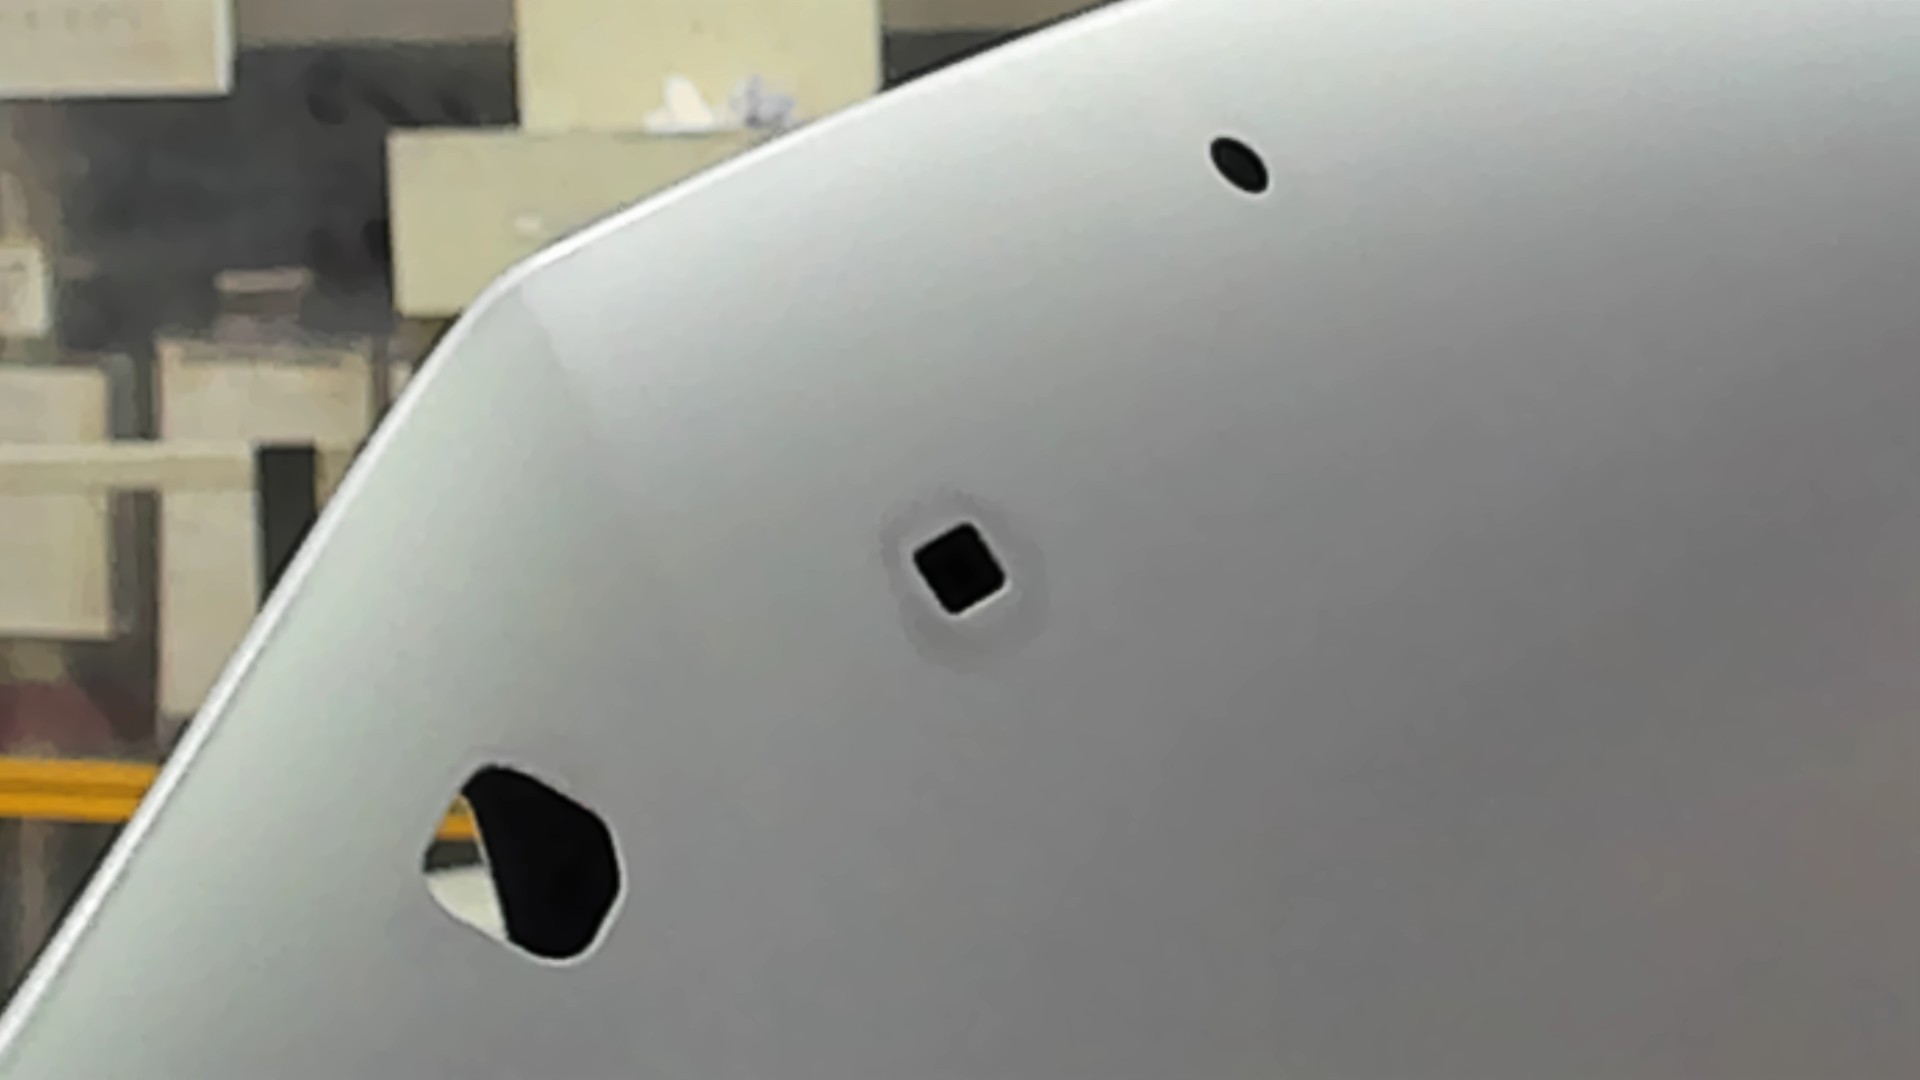chico: (1207, 132, 1273, 198)
grande: (415, 760, 629, 969)
mediano: (910, 518, 1011, 618)
